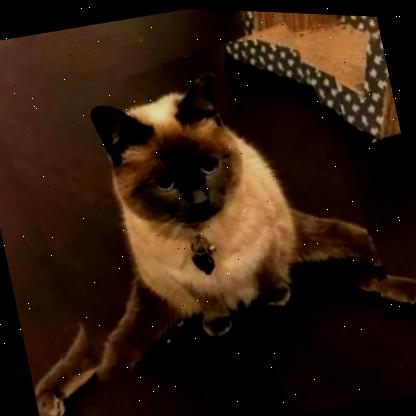cat: (0, 13, 386, 389)
